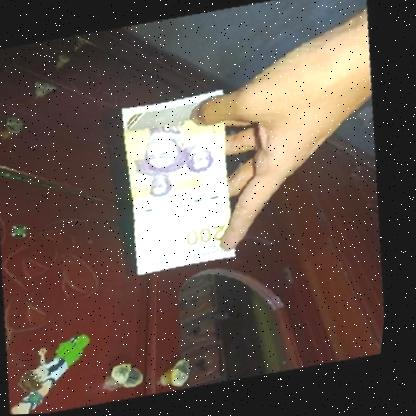two_hundred-front-vef: (110, 88, 255, 278)
